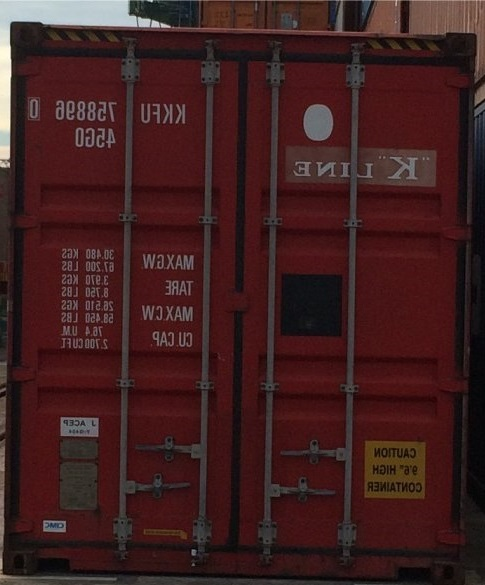container_door: (3, 28, 477, 576)
